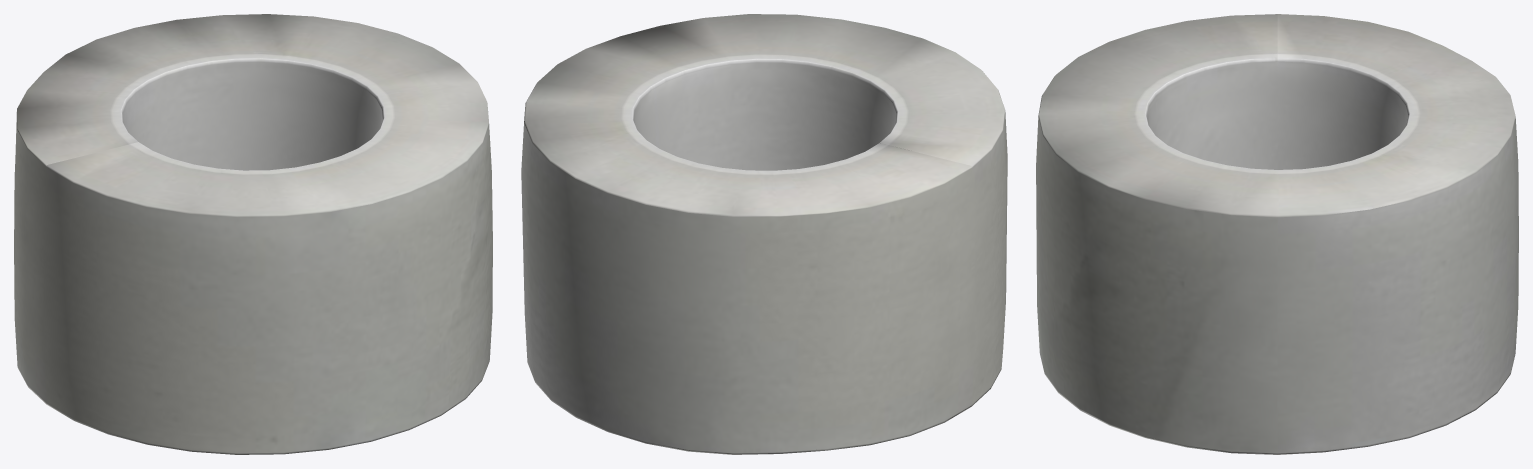
File: medical_tape.gltf
The picture shows the model from 3 angles, left to right: view 1: azimuth 30°, elevation 25°; view 2: azimuth 150°, elevation 25°; view 3: azimuth 270°, elevation 25°; orthographic projection.
Visible parts, largest first — view 1: medical_tape; view 2: medical_tape; view 3: medical_tape.
Part boxes in pixels (x1,y1,x2,y2): medical_tape: (14, 14, 492, 454); medical_tape: (521, 14, 1007, 454); medical_tape: (1036, 14, 1518, 454).
Size of the model in its own units: 0.0453 by 0.025 by 0.0452.
Materials: 1 (1 with a texture image).
